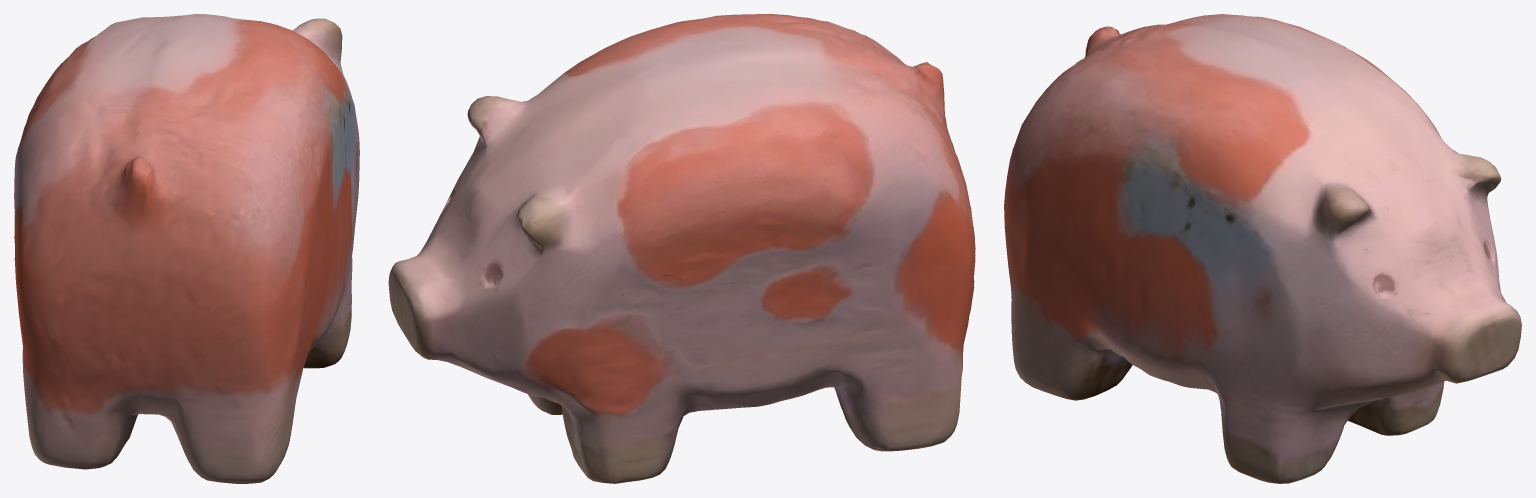
The model's file is piece-hog.glb.
3 renders of one model, left to right at view 1: azimuth 30°, elevation 25°; view 2: azimuth 150°, elevation 25°; view 3: azimuth 270°, elevation 25°, orthographic. The views are drawn at different scales.
Visible parts, largest first — view 1: geometry_0; view 2: geometry_0; view 3: geometry_0.
Part boxes in pixels (x1,y1,x2,y2): geometry_0: [14, 14, 359, 483]; geometry_0: [388, 14, 975, 483]; geometry_0: [1004, 14, 1521, 483].
Bounding box in the file's own units: 0.8621 × 0.7037 × 0.9242.
Materials: 1 (1 with a texture image).
